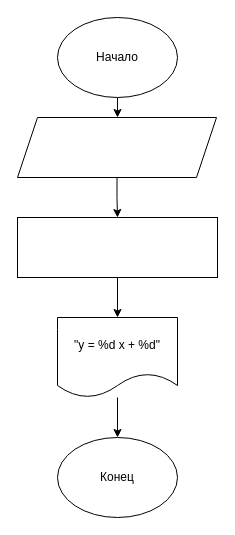
Some shapes in this 235 by 535 pixel diagram are drawn without their labels. The shapes that lost their labels are listed below. From the top down, each one's centre as x and y in pixels, then its label:
At (116,147): "Ввод координат двух точек x1, y1, x2, y2".
At (117,247): "k = (y1 - y2) / (x1 - x2) b = y2 - k*x2".
